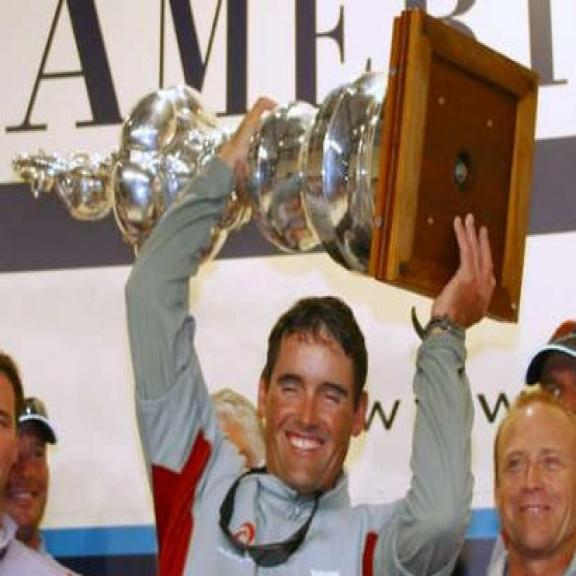face: (256, 328, 370, 490), (497, 410, 576, 552), (6, 424, 58, 535)
